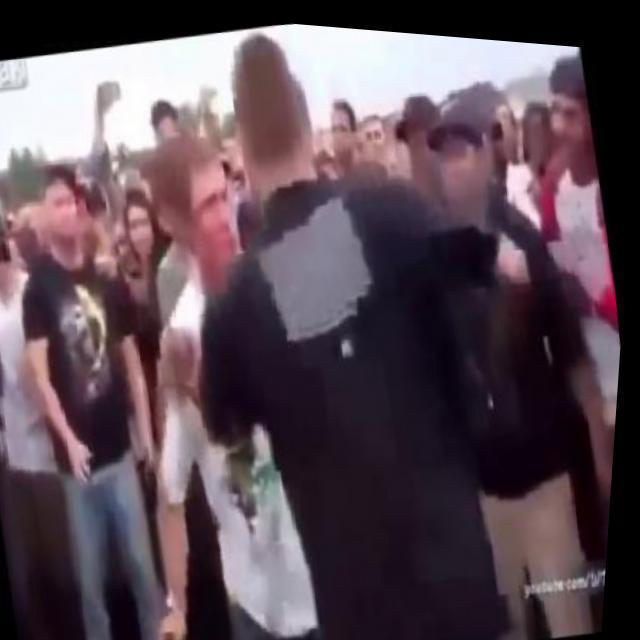fight: (65, 6, 505, 594)
